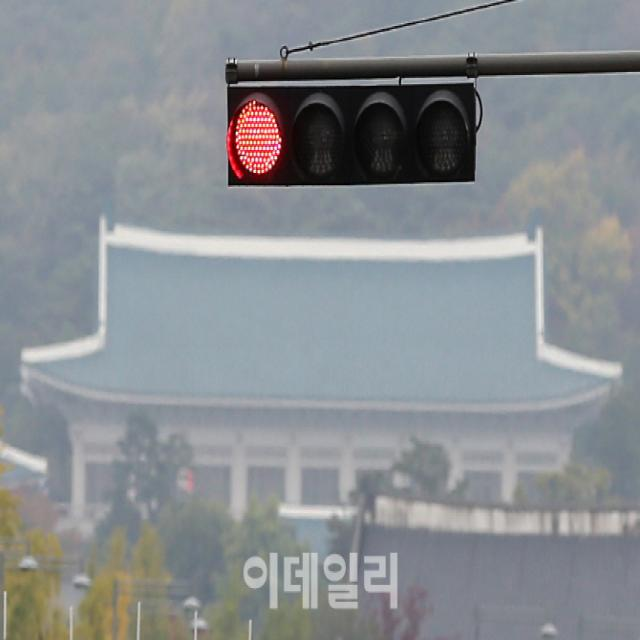Red Light: (229, 91, 284, 181)
